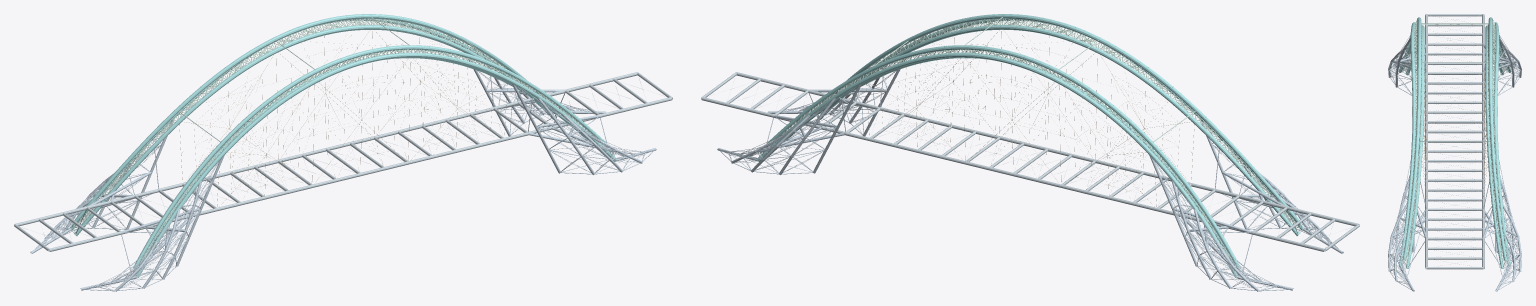
3 renders of one model, left to right at view 1: azimuth 30°, elevation 25°; view 2: azimuth 150°, elevation 25°; view 3: azimuth 270°, elevation 25°, orthographic. The views are drawn at different scales.
Visible parts, largest first — view 1: Structural_primary_arch, Structural_end_support, Structural_deck_system, Structural_arch_internal, Structural_cable_web; view 2: Structural_primary_arch, Structural_end_support, Structural_deck_system, Structural_arch_internal, Structural_cable_web; view 3: Structural_deck_system, Structural_primary_arch, Structural_end_support, Structural_arch_internal, Structural_cable_web.
Boxes of the visible parts, x1,y1,x2,y2 form: Structural_primary_arch: [70, 14, 617, 277]; Structural_end_support: [30, 60, 656, 291]; Structural_deck_system: [14, 72, 672, 251]; Structural_arch_internal: [71, 17, 614, 274]; Structural_cable_web: [179, 23, 507, 206]; Structural_primary_arch: [756, 14, 1303, 277]; Structural_end_support: [717, 60, 1343, 291]; Structural_deck_system: [701, 72, 1359, 251]; Structural_arch_internal: [759, 17, 1302, 274]; Structural_cable_web: [866, 23, 1194, 206]; Structural_deck_system: [1425, 14, 1484, 269]; Structural_primary_arch: [1398, 17, 1511, 268]; Structural_end_support: [1388, 35, 1521, 291]; Structural_arch_internal: [1401, 21, 1508, 268]; Structural_cable_web: [1422, 24, 1487, 198].
Size of the model in its own units: 157 by 39.93 by 34.9.
